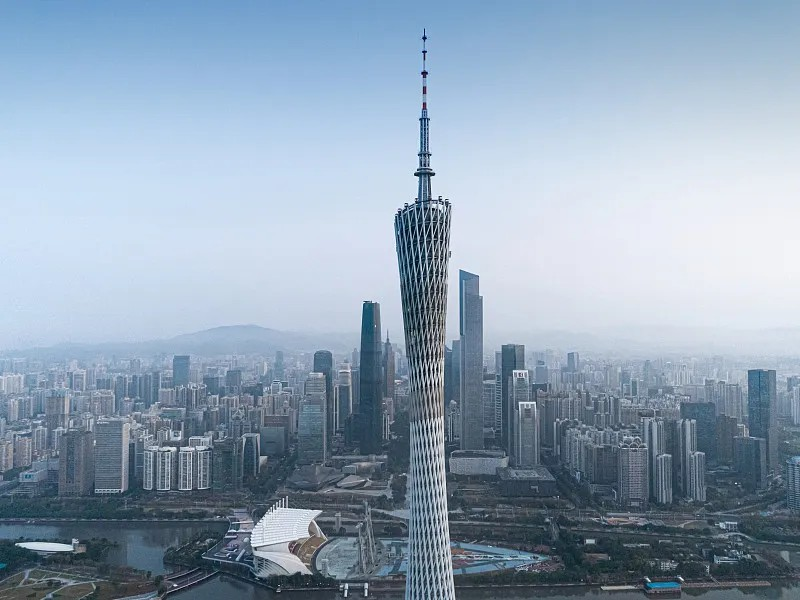Canton: (395, 28, 458, 600)
